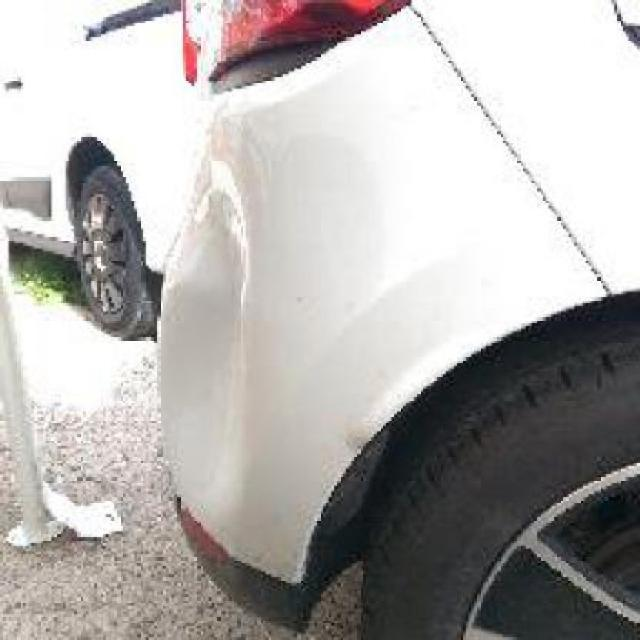dent-or-scratch: (166, 176, 280, 509)
